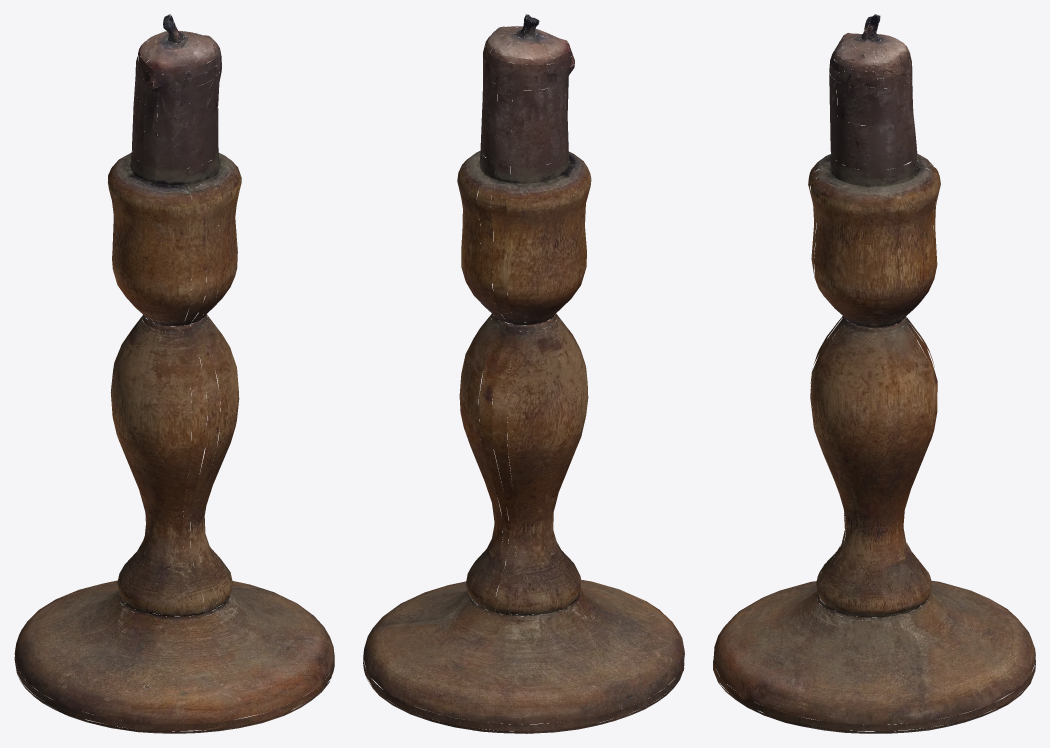
Rendered from candlestick.glb.
The picture shows the model from 3 angles, left to right: view 1: azimuth 30°, elevation 25°; view 2: azimuth 150°, elevation 25°; view 3: azimuth 270°, elevation 25°; orthographic projection.
Visible parts, largest first — view 1: candlestick; view 2: candlestick; view 3: candlestick.
Part boxes in pixels (x1,y1,x2,y2): candlestick: (14, 14, 334, 733); candlestick: (363, 14, 684, 733); candlestick: (713, 14, 1035, 733).
Size of the model in its own units: 0.0972 by 0.2197 by 0.0986.
1 material, 1 textured.
